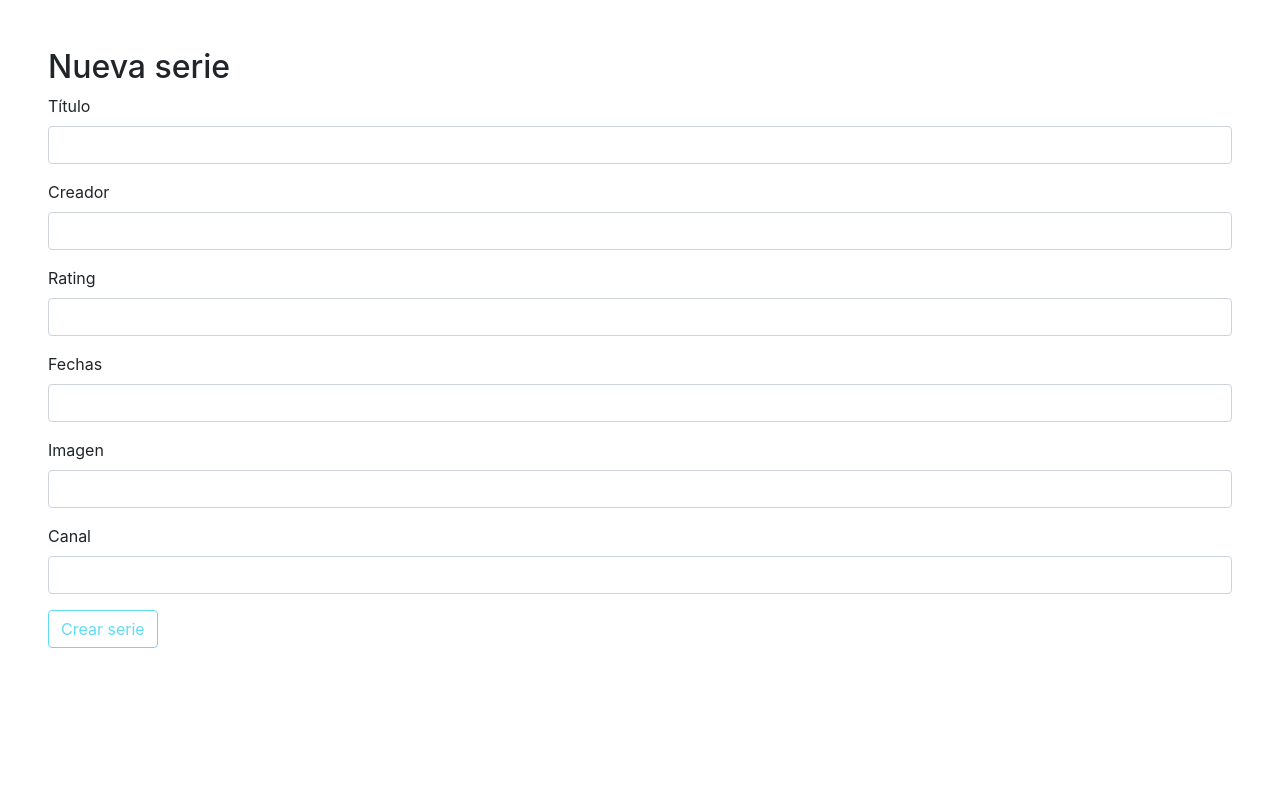
Test case: Formulario test › se crea una nueva serie
Type "La casa de la pradera" into the field labelled "Título". click: (640, 145)
box: [48, 126, 1232, 164]
Type "Michael Smith" into the field labelled "Creador". click: (640, 231)
box: [48, 212, 1232, 250]
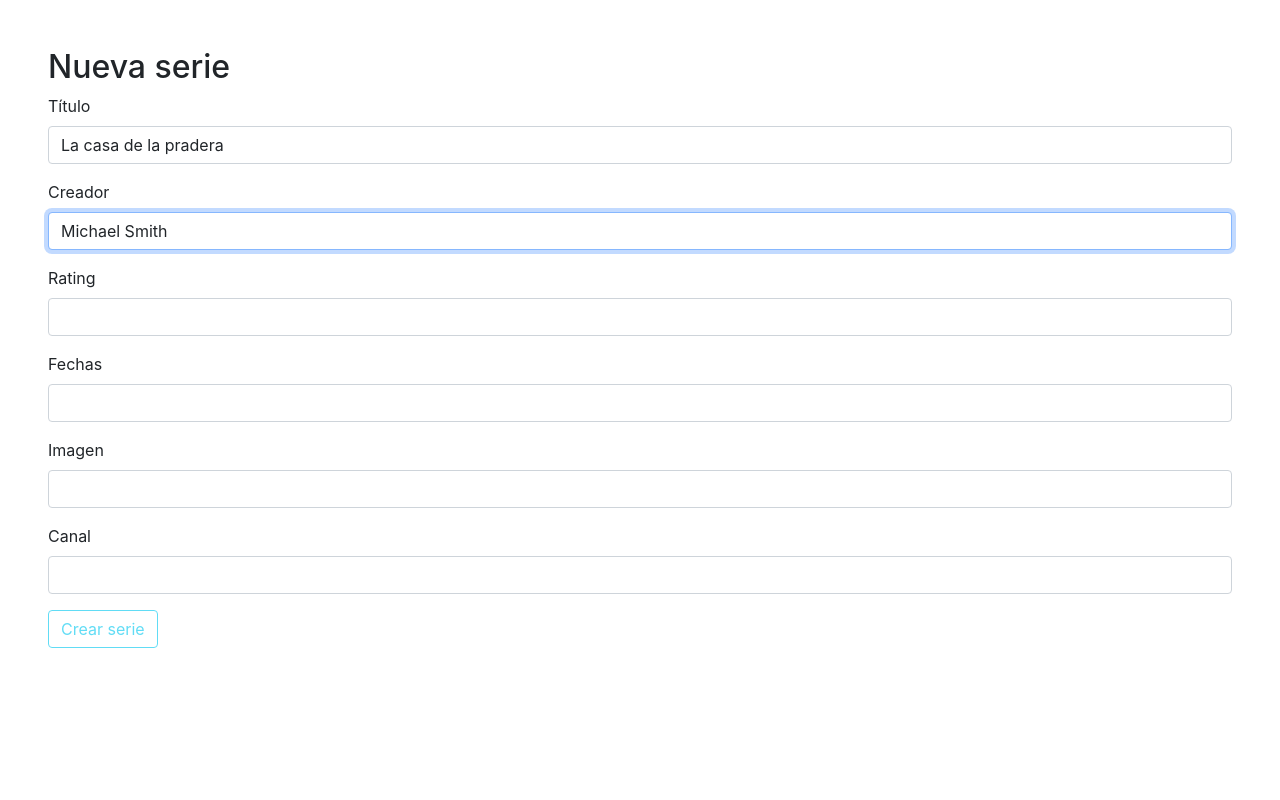
Type "9" into the number field labelled "Rating". click: (640, 317)
box: [48, 298, 1232, 336]
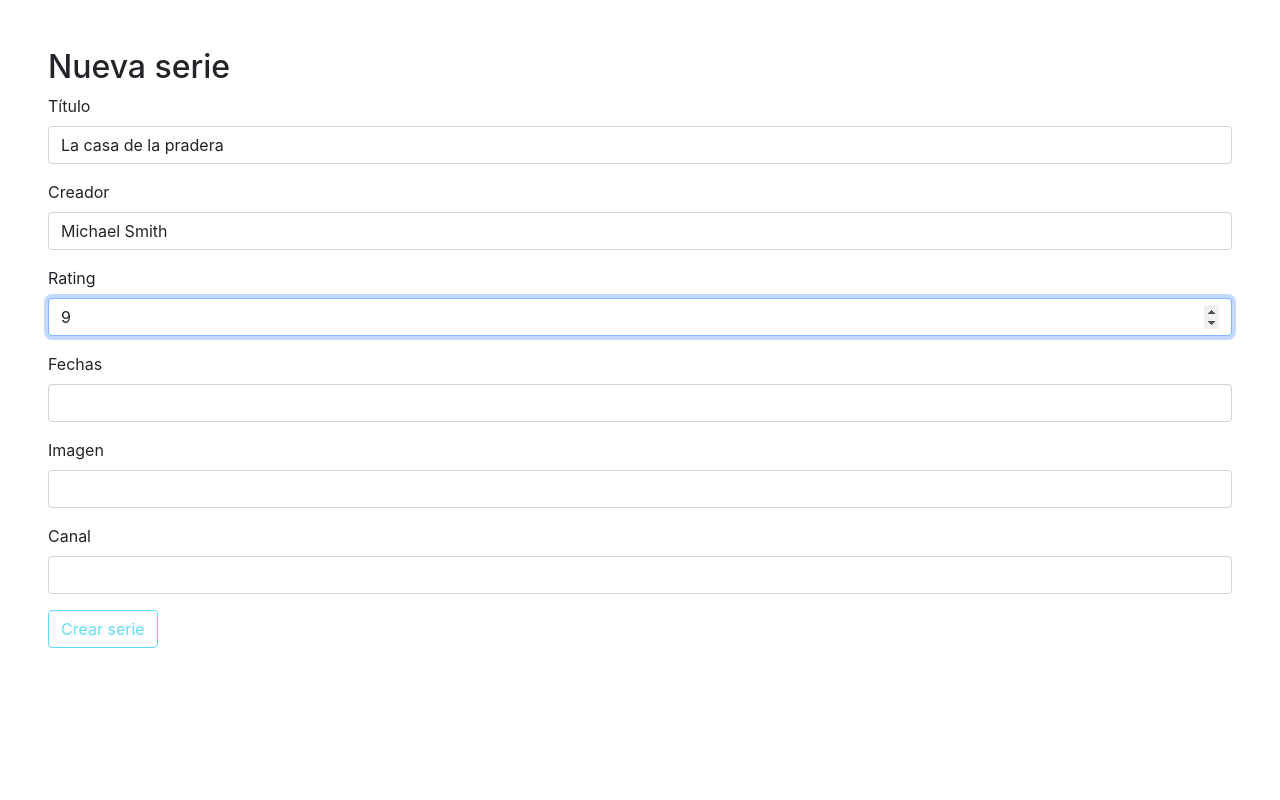
Type "1950-1960" into the field labelled "Fechas". click: (640, 403)
box: [48, 384, 1232, 422]
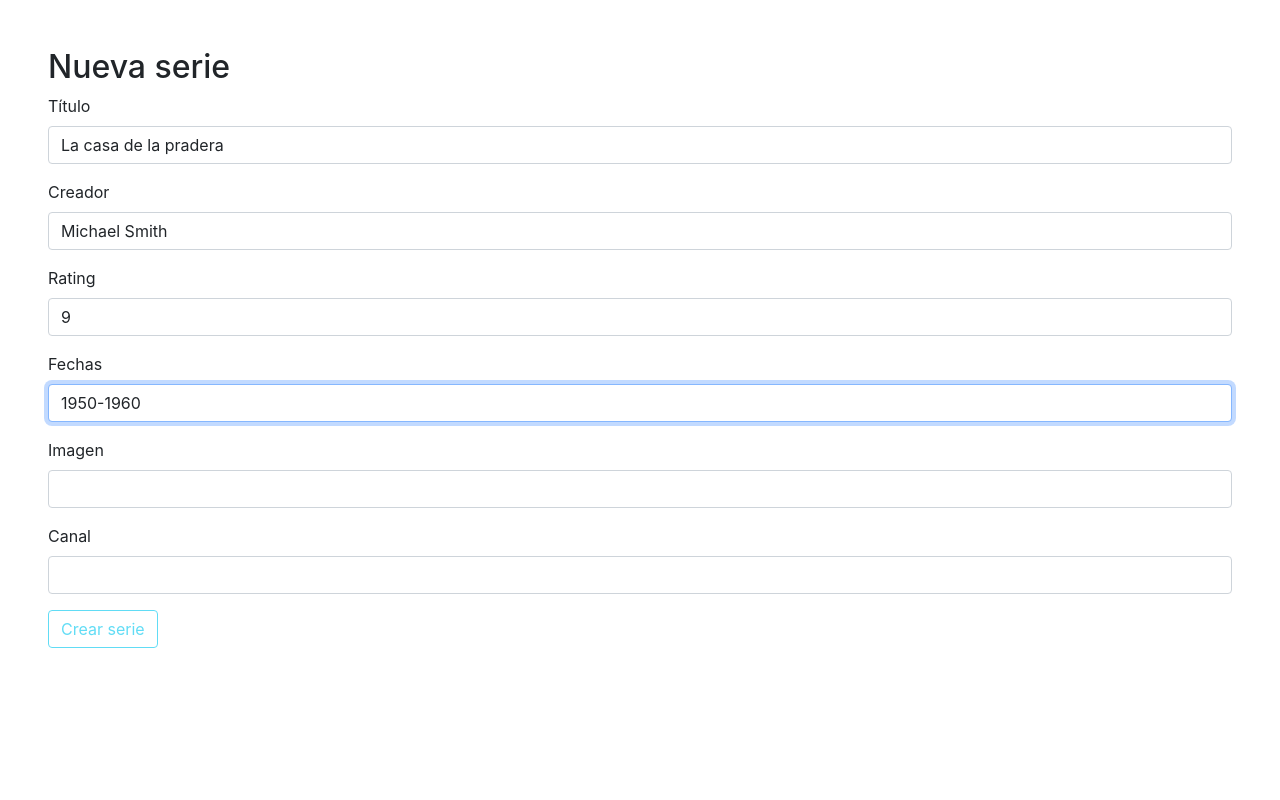
Type "http://imagen..." into the field labelled "Imagen". click: (640, 489)
box: [48, 470, 1232, 508]
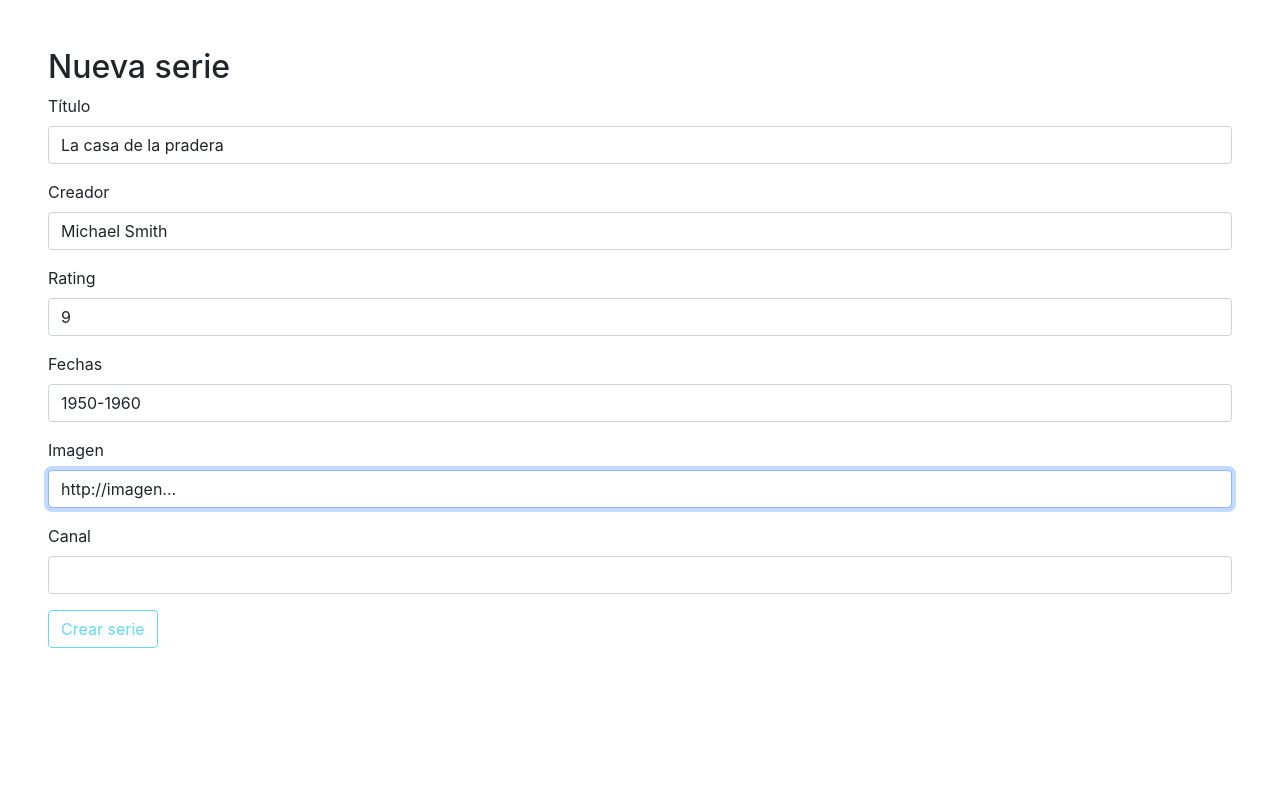
Type "Telecinco" into the field labelled "Canal". click: (640, 575)
box: [48, 556, 1232, 594]
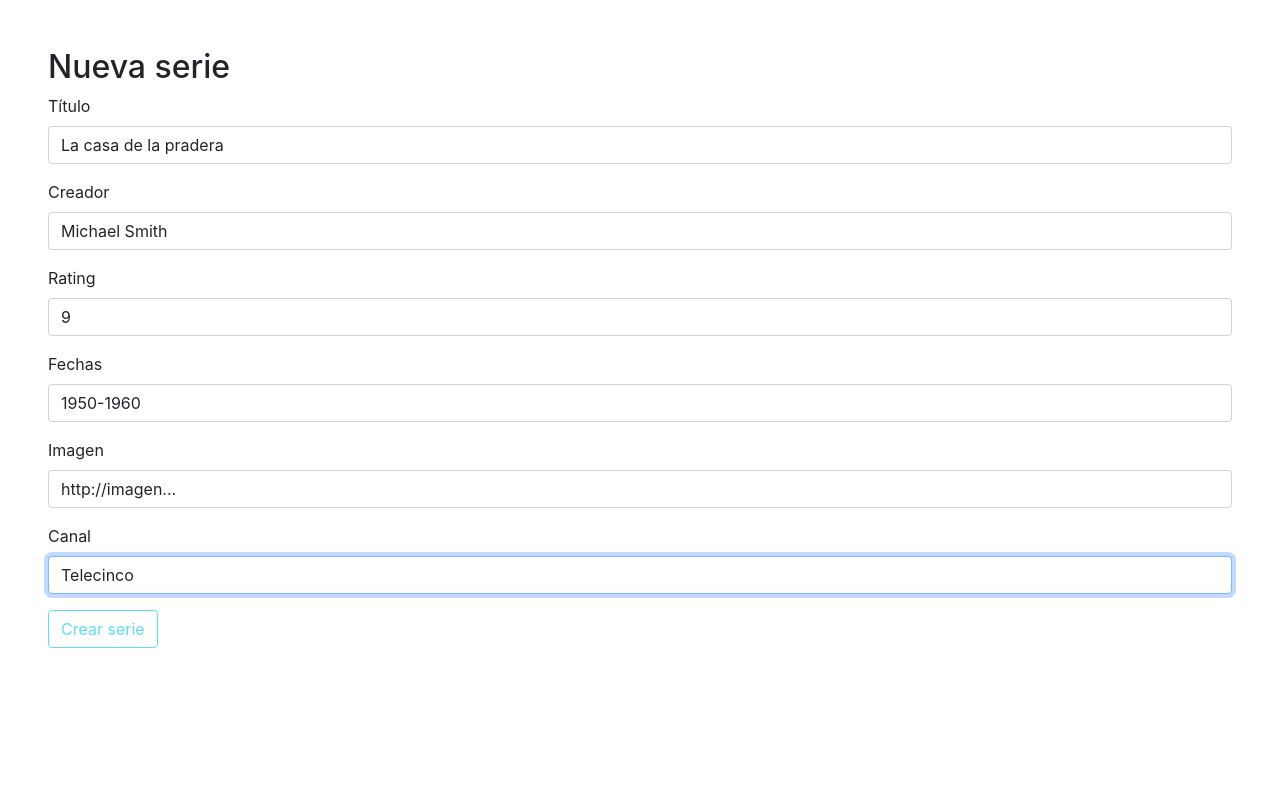
Click the button "Crear serie". click: (103, 629)
box: [48, 610, 158, 648]
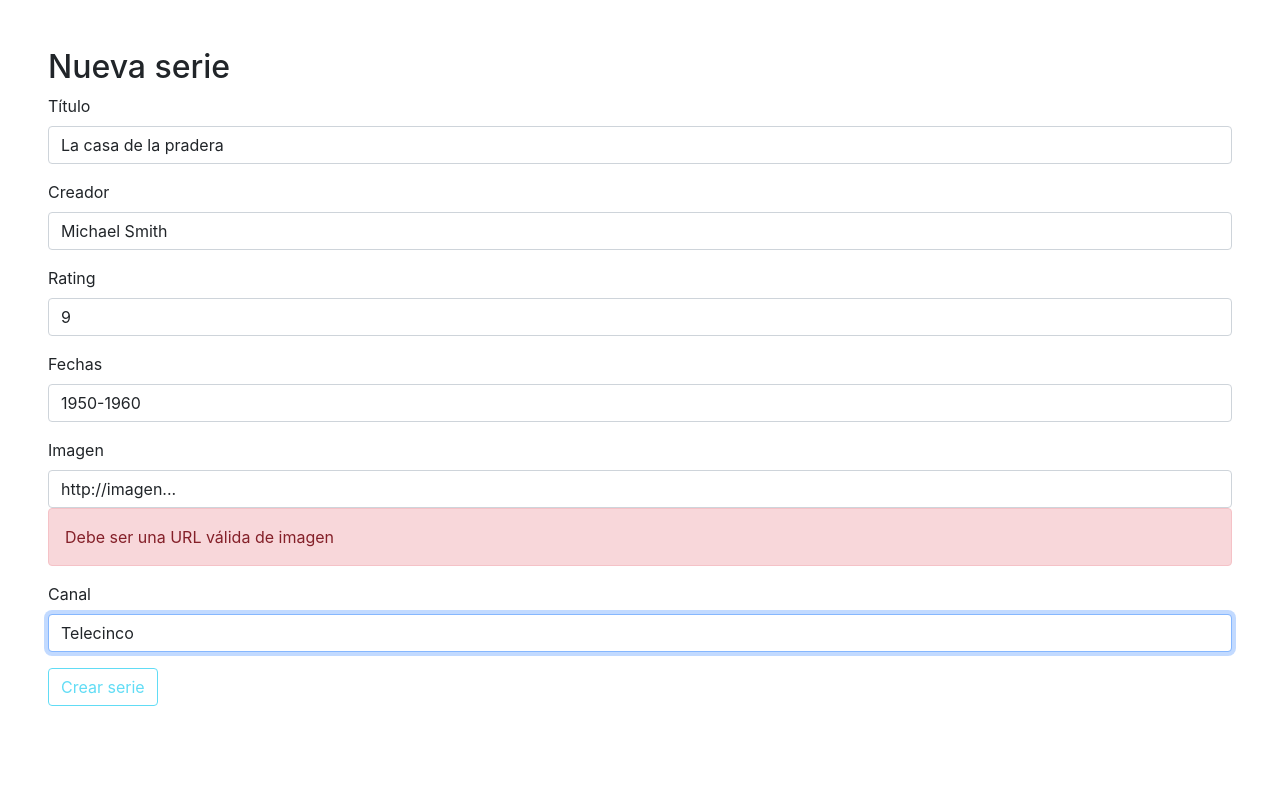
Expected: the message "Debe ser una URL válida de imagen" is shown, [48, 508, 1232, 566]
